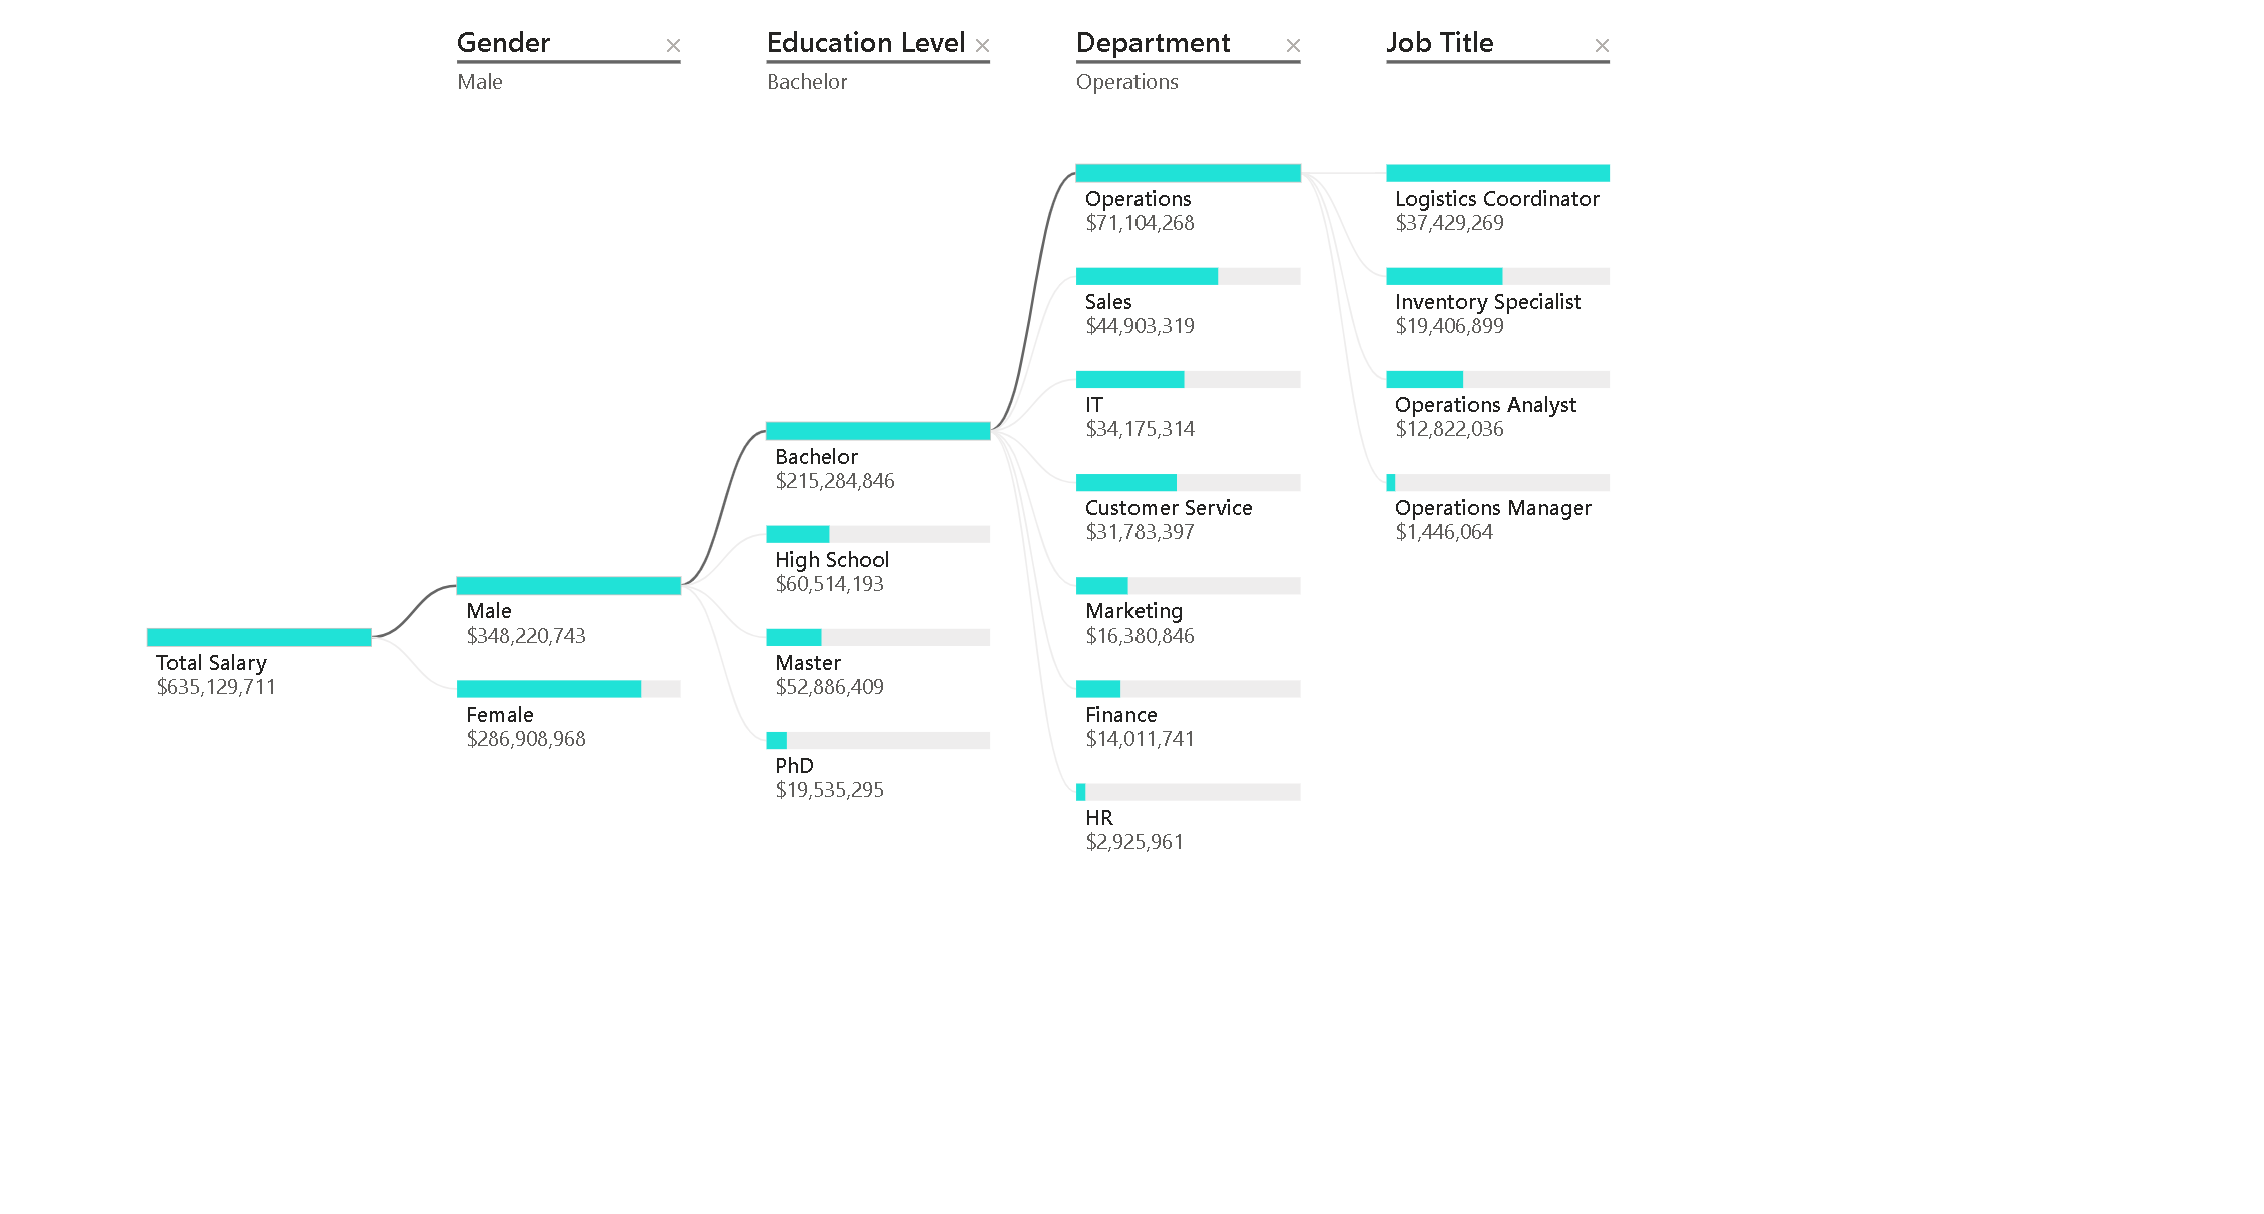

What the dashboard file says about the page in this screenshot:
{"tool":"powerbi","page":{"name":"Decomposition Tree","canvas":[1280,720],"ordinal":4},"visuals":[{"type":"decompositionTreeVisual","fields":{"Analyze":["DAX Measures.Total Salary"],"ExplainBy":["HumanResources.Gender","HumanResources.Education Level","HumanResources.Department","HumanResources.Job Title"]},"box":[11.3,0,1268.7,719.4],"z":0}]}

Visuals, with their boxes on the page's 1280x720 design canvas (x1, y1, x2, y2). These are canvas units, not pixel positions in the 2264x1214 screenshot, which may show the page scaled, cropped or inside an application window:
decompositionTreeVisual - DAX Measures.Total Salary x HumanResources.Gender: detection(11, 0, 1280, 719)
